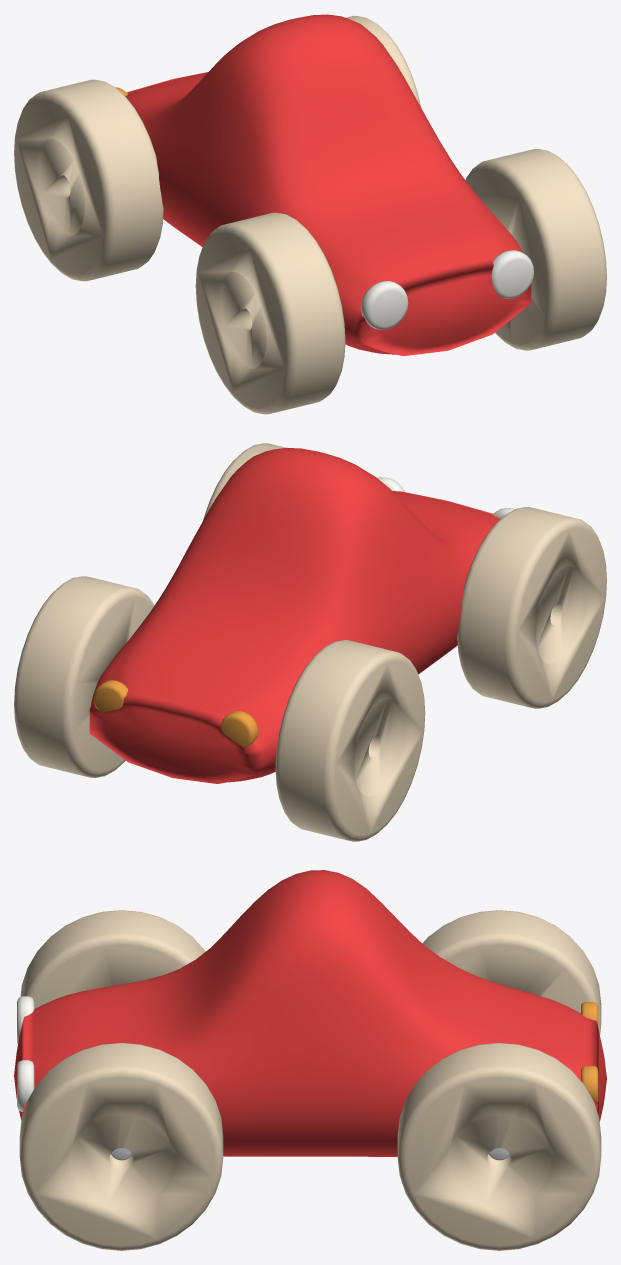
3 renders of one model, top to bottom at view 1: azimuth 30°, elevation 25°; view 2: azimuth 150°, elevation 25°; view 3: azimuth 270°, elevation 25°, orthographic. The views are drawn at different scales.
Visible parts, largest first — view 1: CarBody, FrontWheel_1, RearWheel_1, FrontWheel_0, Headlight_1, Headlight_0, RearWheel_0; view 2: CarBody, RearWheel_1, FrontWheel_1, RearWheel_0, Taillight_1, Taillight_0, FrontWheel_0; view 3: CarBody, FrontWheel_0, RearWheel_0, FrontWheel_1, RearWheel_1, Headlight_0.
Boxes of the visible parts, <box> form: CarBody: <box>125,14,531,356</box>; FrontWheel_1: <box>195,212,345,414</box>; RearWheel_1: <box>14,79,163,281</box>; FrontWheel_0: <box>465,148,606,350</box>; Headlight_1: <box>361,281,408,329</box>; Headlight_0: <box>491,250,533,298</box>; RearWheel_0: <box>346,15,421,107</box>; CarBody: <box>89,447,500,783</box>; RearWheel_1: <box>275,640,425,841</box>; FrontWheel_1: <box>457,507,606,708</box>; RearWheel_0: <box>14,576,154,777</box>; Taillight_1: <box>221,711,258,746</box>; Taillight_0: <box>94,680,128,712</box>; FrontWheel_0: <box>203,443,285,519</box>; CarBody: <box>14,870,606,1156</box>; FrontWheel_0: <box>19,1043,223,1250</box>; RearWheel_0: <box>397,1043,601,1250</box>; FrontWheel_1: <box>20,910,205,1008</box>; RearWheel_1: <box>422,910,601,1034</box>; Headlight_0: <box>17,1060,34,1111</box>.
Size of the model in its own units: 0.132 by 0.11 by 0.204.
